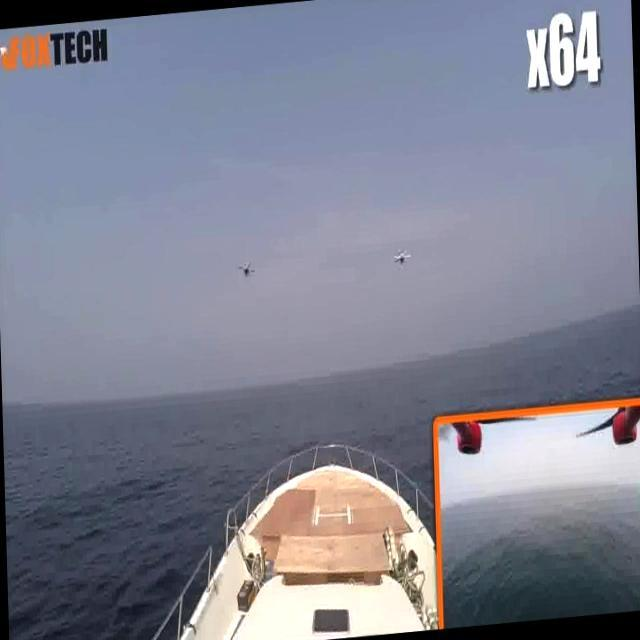drone: (236, 259, 258, 287), (390, 244, 412, 271)
